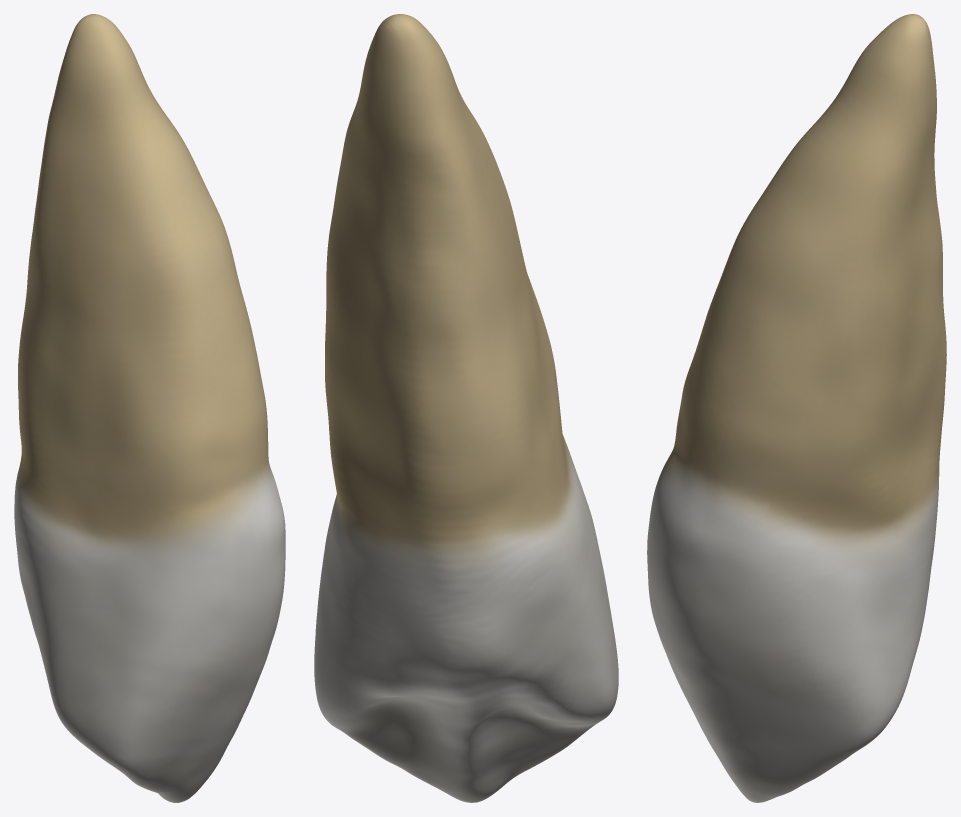
Rendered from maxillary_canine.glb.
The picture shows the model from 3 angles, left to right: view 1: azimuth 30°, elevation 25°; view 2: azimuth 150°, elevation 25°; view 3: azimuth 270°, elevation 25°; orthographic projection. The views are drawn at different scales.
Visible parts, largest first — view 1: Object_2; view 2: Object_2; view 3: Object_2.
Part boxes in pixels (box(x1,y1,x2,y2)): Object_2: box(14, 14, 285, 802); Object_2: box(314, 14, 618, 802); Object_2: box(647, 14, 946, 802).
Size of the model in its own units: 0.2798 by 0.9093 by 0.317.
Materials: 1 (1 with a texture image).
